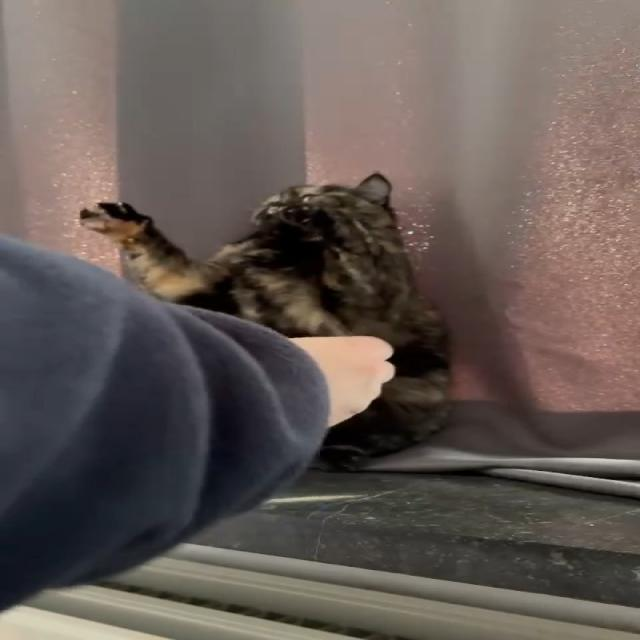authorized: (77, 171, 455, 471)
